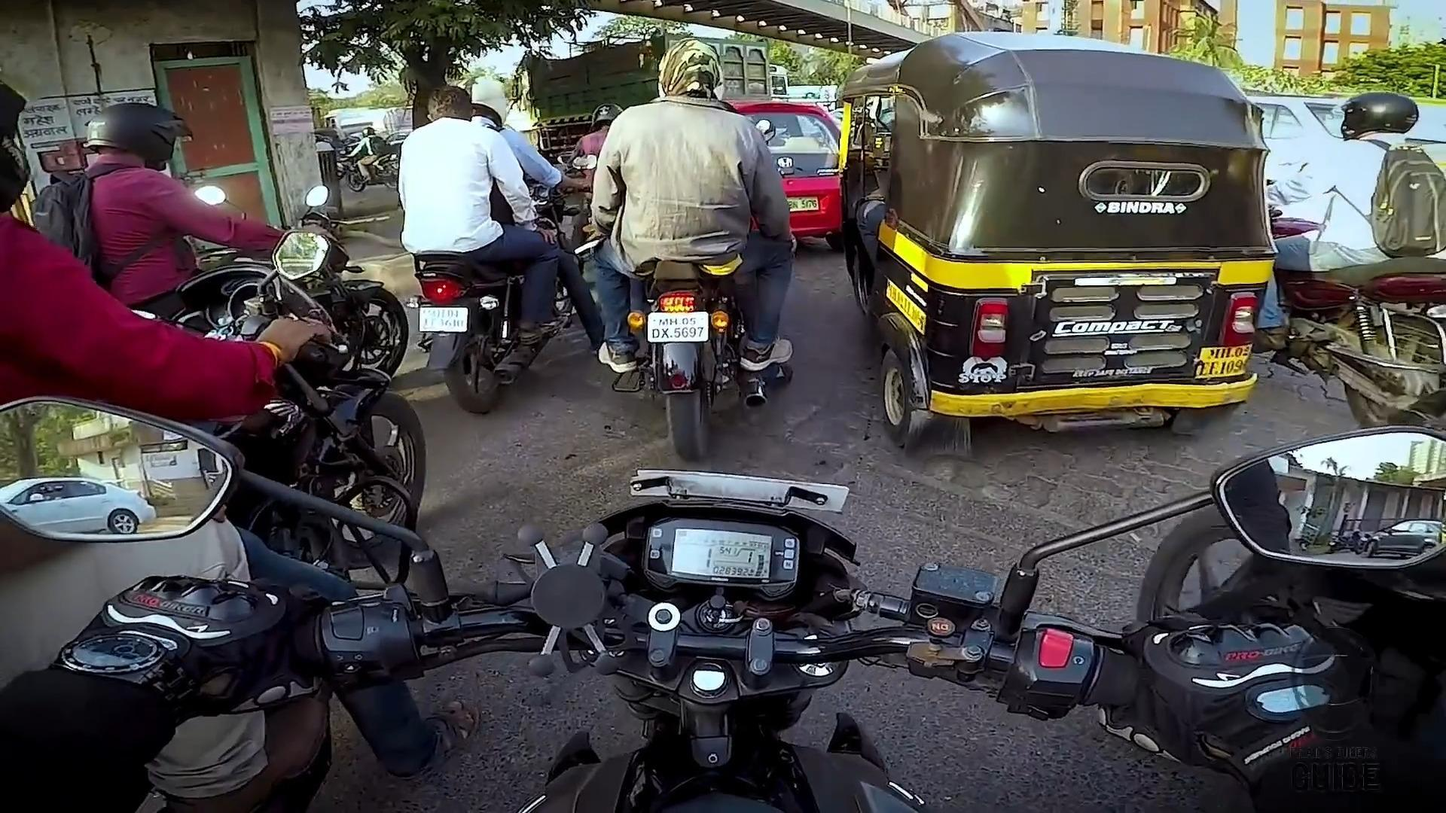Helmet: (72, 92, 201, 186), (1330, 79, 1430, 153), (646, 32, 730, 111), (459, 70, 519, 131)
bike: (599, 118, 798, 456), (392, 152, 609, 412), (1256, 182, 1446, 446)
no-helmet: (413, 79, 488, 137)
number-plate: (643, 306, 711, 348)
rider: (578, 30, 810, 373), (36, 97, 296, 314), (392, 80, 566, 341), (1271, 83, 1438, 330)
